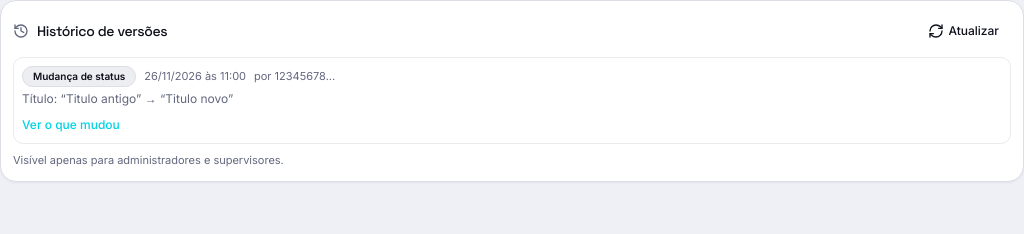
Test case: ArticleHistoryCard › abre o antes e depois do conteudo sob demanda
Expected: the text "Antes" is not shown
Click the button "Ver o que mudou": [71, 125] box [22, 117, 120, 133]
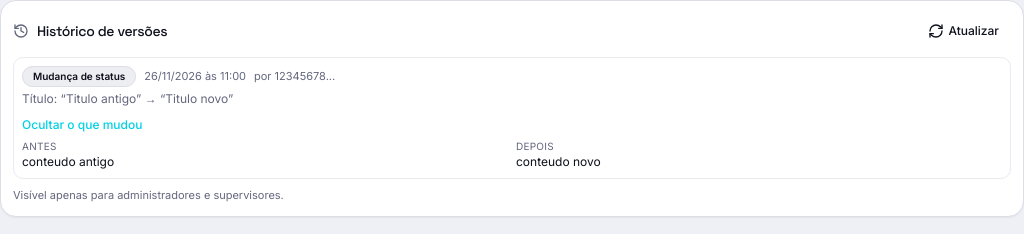
Expected: the text "Antes" is shown, [22, 140, 57, 152]
Expected: the text "Depois" is shown, [516, 140, 554, 152]
Expected: the text "conteudo antigo" is shown, [22, 154, 114, 169]
